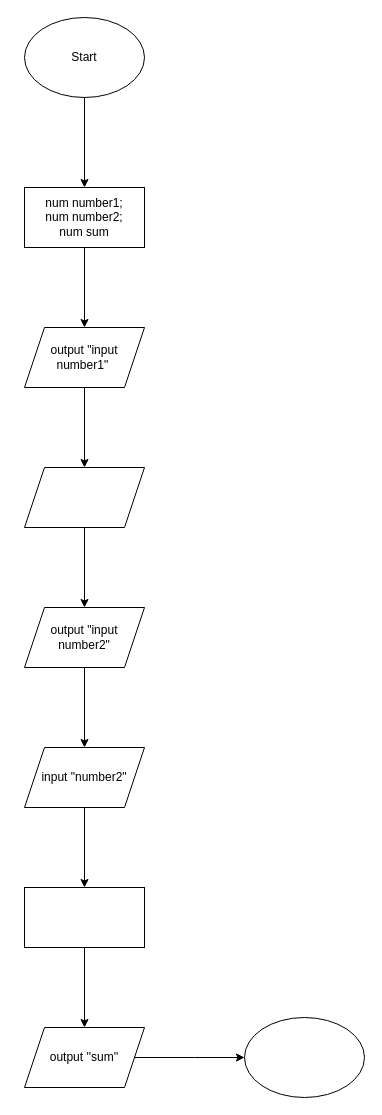
Some shapes in this 382 by 1115 pixel diagram are drawn without their labels. The shapes that lost their labels are listed below. From the top down, each one's box as (x1, y1, x2, y2) in pixels, then its label:
(24, 466, 144, 528): input number1
(24, 886, 144, 948): sum=number1+number2
(244, 1016, 364, 1098): Stop
